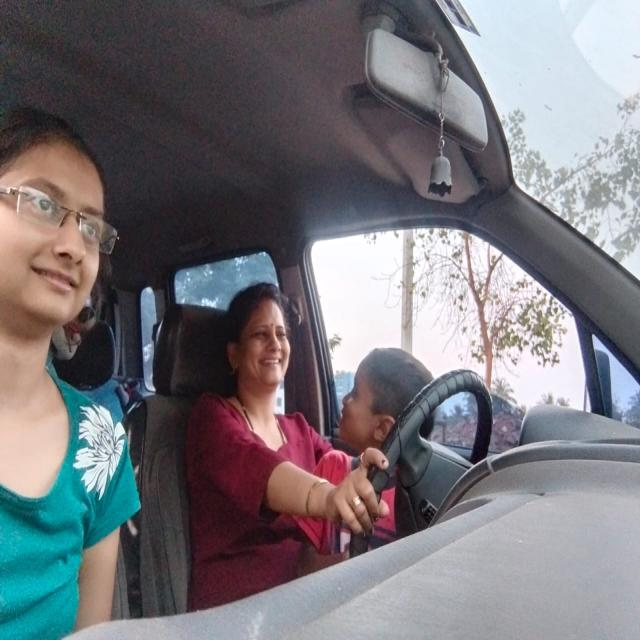child: (334, 345, 427, 455)
person: (0, 110, 123, 350), (222, 274, 298, 400)
